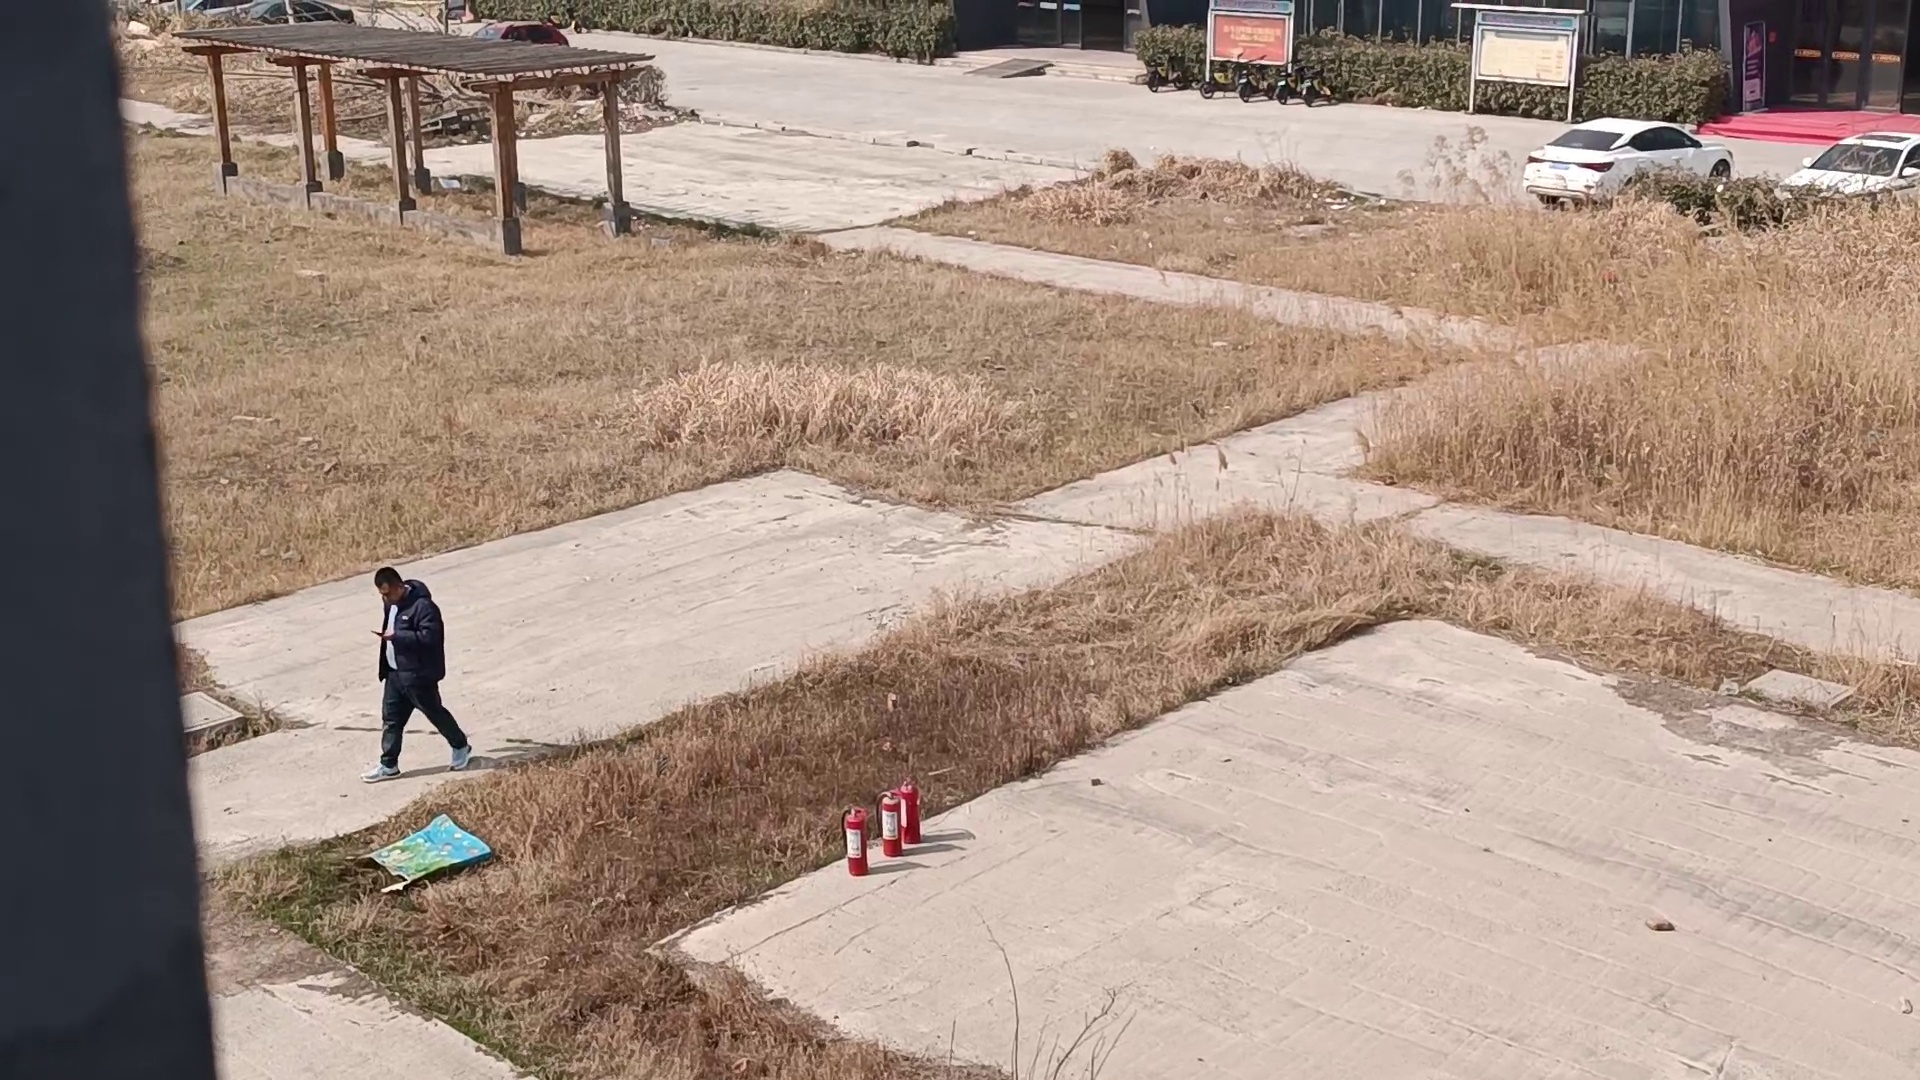phone: (359, 567, 433, 646)
